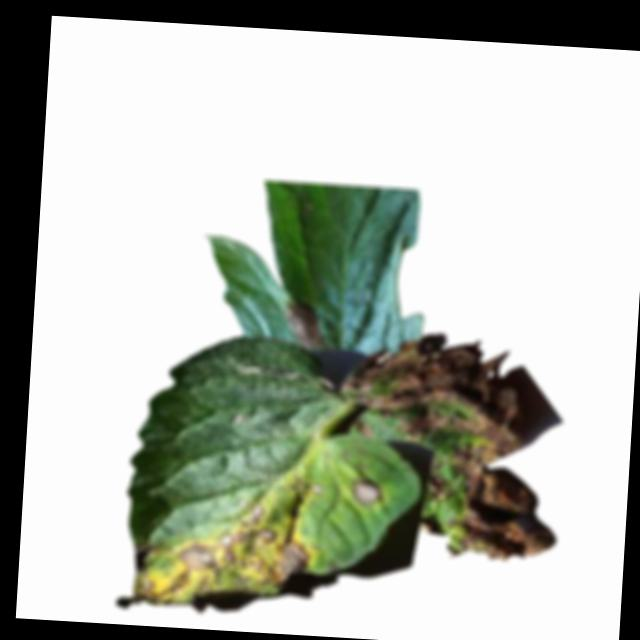Early_blight: (334, 335, 565, 564), (131, 500, 313, 613), (277, 299, 325, 347), (348, 475, 383, 509)
